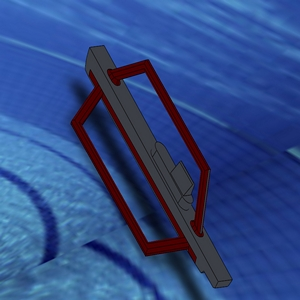submarine: (52, 15, 249, 300)
